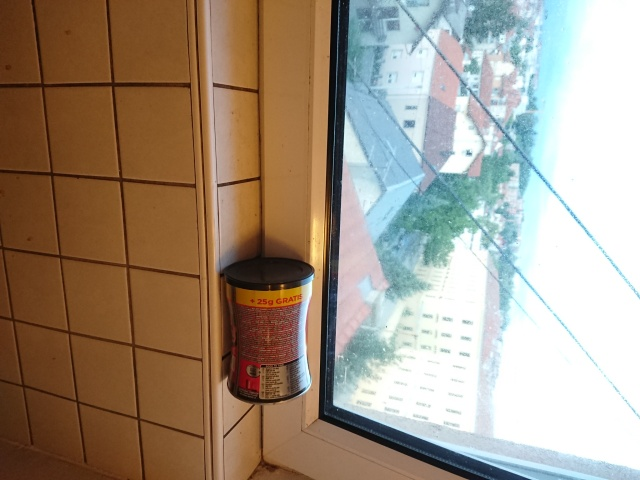Nescafe Classic 225g: (218, 254, 318, 408)
